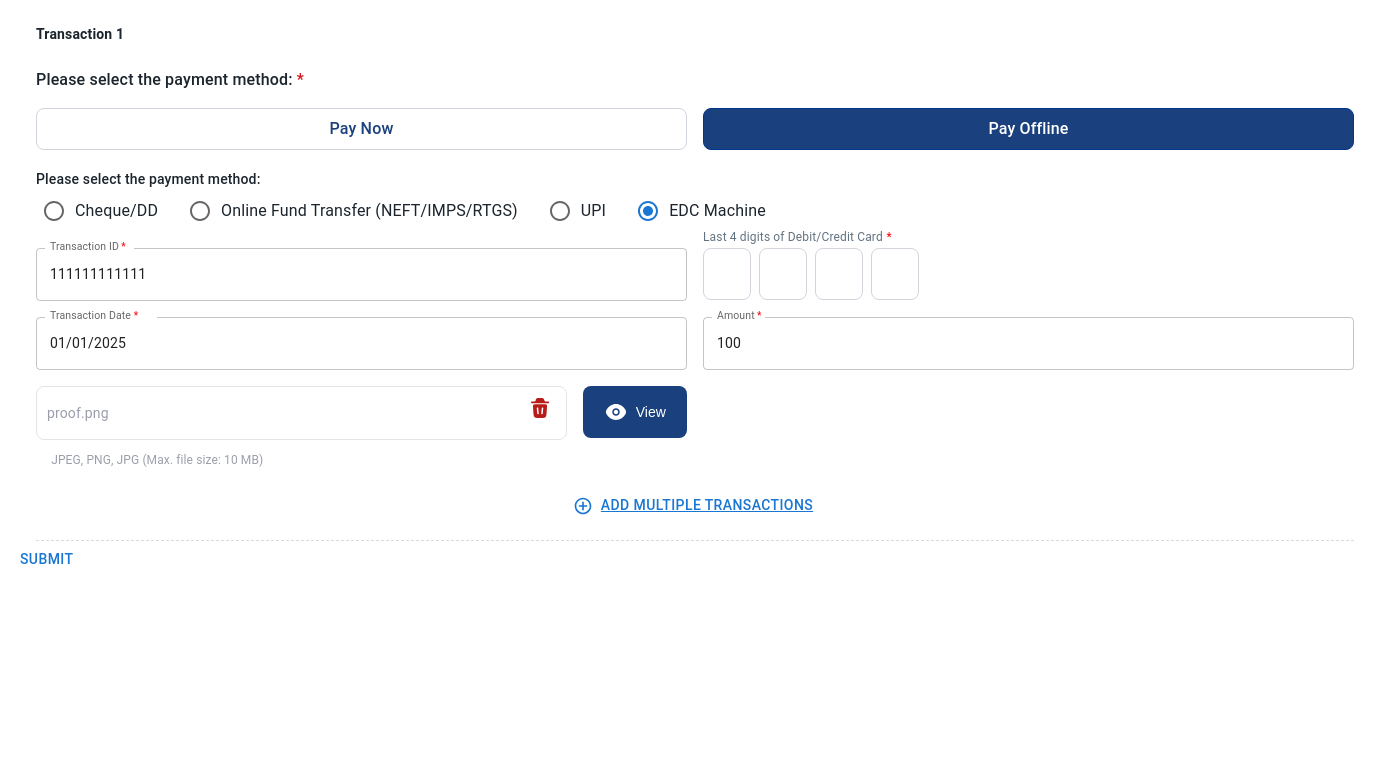
Test case: PaymentDetailsForm - EDC MACHINE last 4 digits field › shows the required validation message on submit when the field is empty
Click the button "submit": (47, 559) [12,541,81,578]
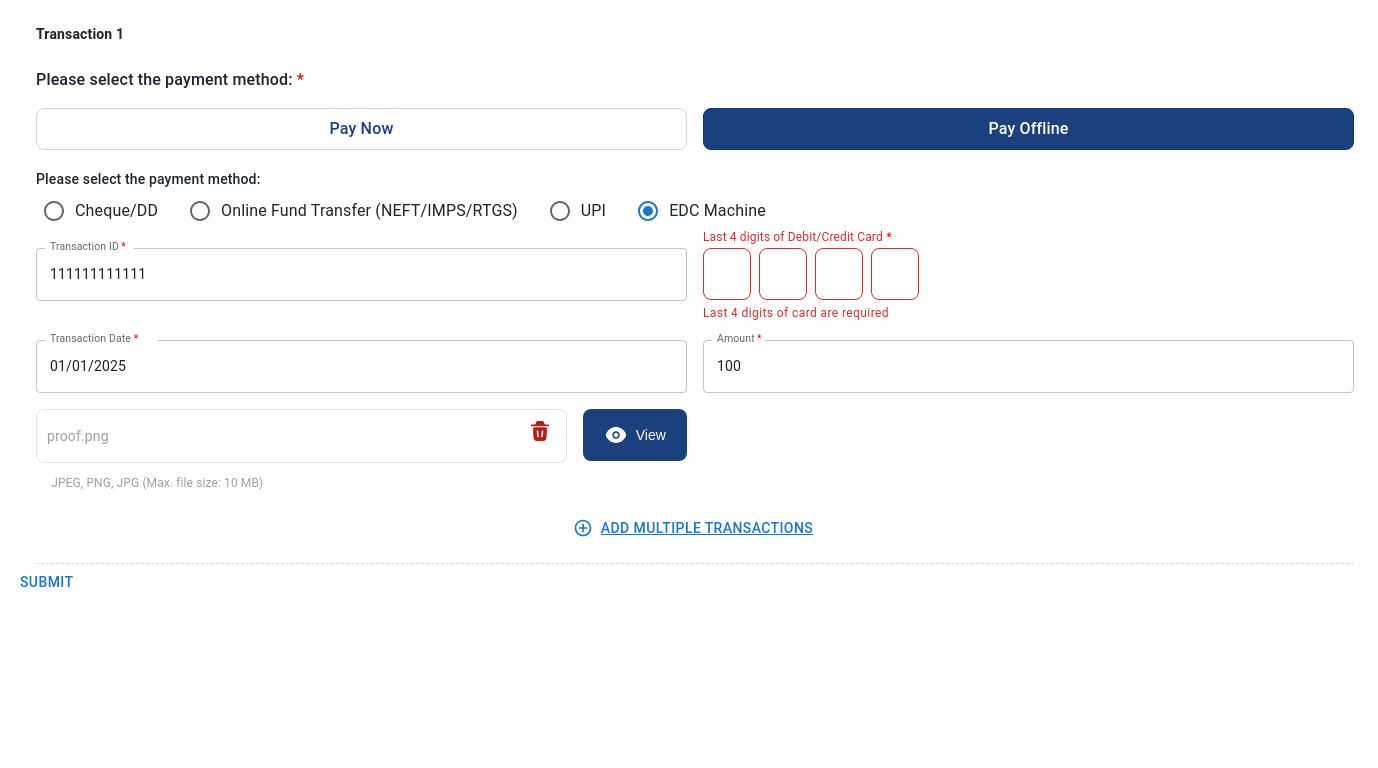
Expected: the text "Last 4 digits of card are required" is shown, [703,306,889,320]
